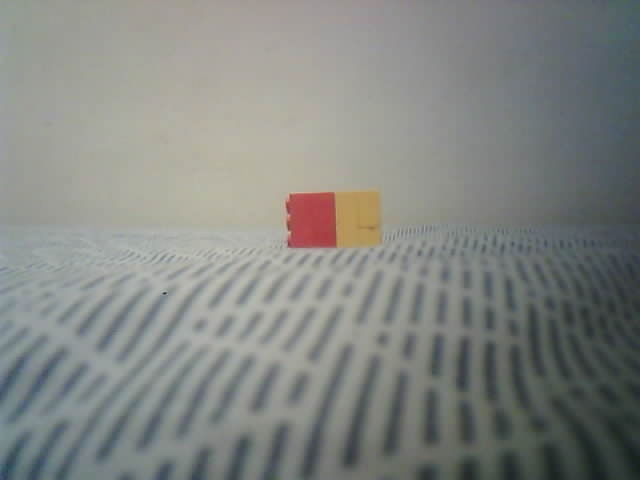lego: (284, 189, 381, 251)
